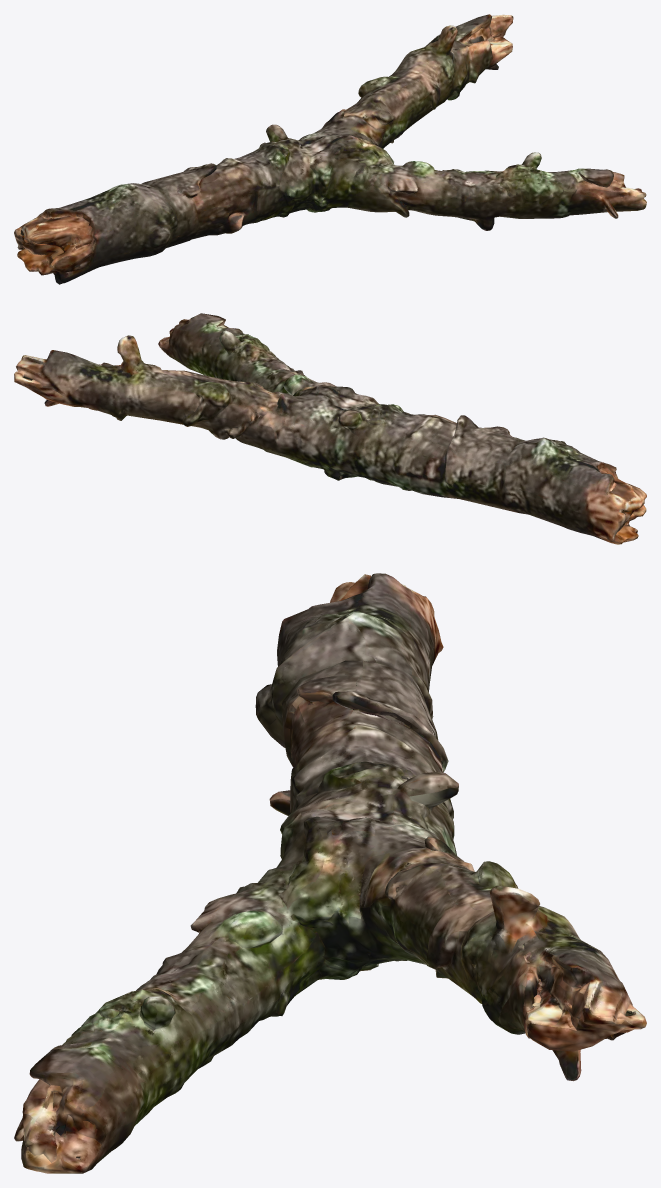
The model's file is fallen-twig-v12-lod.glb.
3 renders of one model, top to bottom at view 1: azimuth 30°, elevation 25°; view 2: azimuth 150°, elevation 25°; view 3: azimuth 270°, elevation 25°, orthographic. The views are drawn at different scales.
Visible parts, largest first — view 1: geometry_0; view 2: geometry_0; view 3: geometry_0.
Part boxes in pixels (x1,y1,x2,y2): geometry_0: (14, 14, 646, 284); geometry_0: (14, 313, 646, 544); geometry_0: (14, 573, 646, 1173).
Bounding box in the file's own units: 0.6494 × 0.1419 × 0.3334.
Materials: 1 (1 with a texture image).
